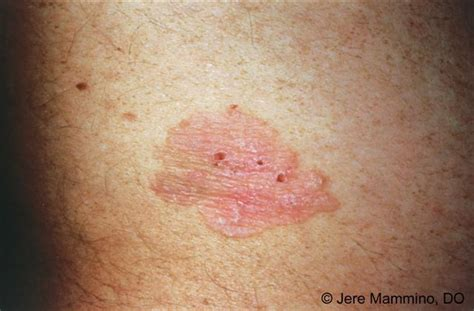Bowen: (152, 106, 347, 240)
